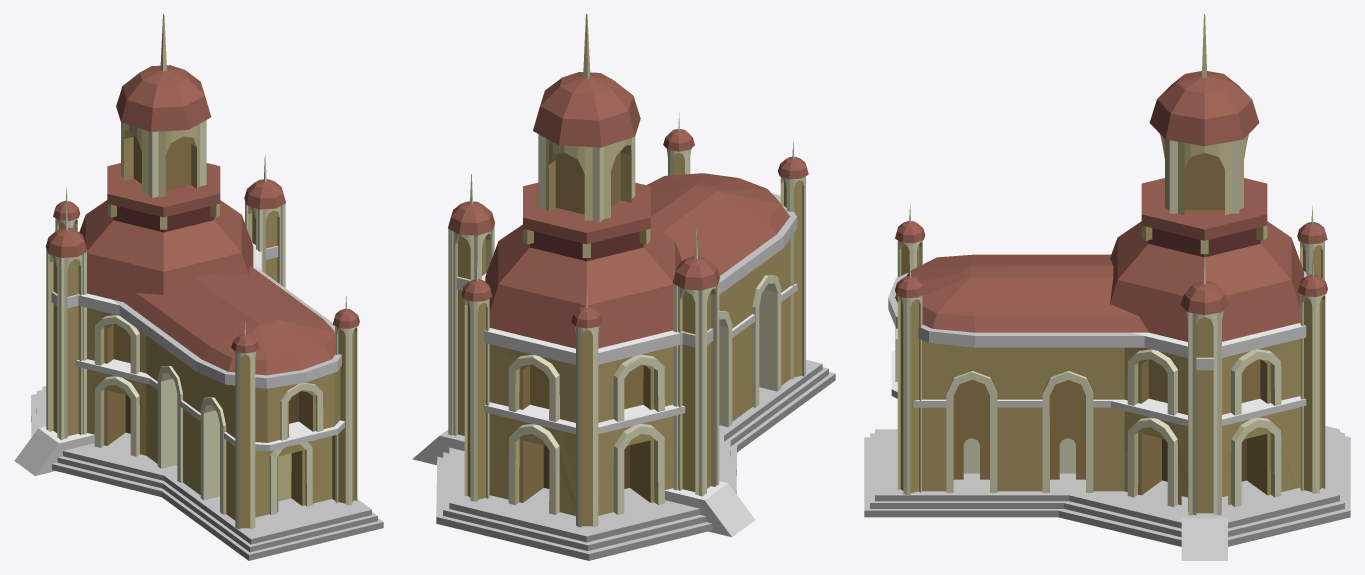
File: temple_004.fbx
3 renders of one model, left to right at view 1: azimuth 30°, elevation 25°; view 2: azimuth 150°, elevation 25°; view 3: azimuth 270°, elevation 25°, orthographic. The views are drawn at different scales.
Visible parts, largest first — view 1: temple_004; view 2: temple_004; view 3: temple_004.
Boxes of the visible parts, bbox=[...] form: temple_004: bbox=[14, 14, 383, 560]; temple_004: bbox=[412, 14, 835, 560]; temple_004: bbox=[864, 14, 1350, 560].
Bounding box in the file's own units: 1470 × 2091 × 1964.
